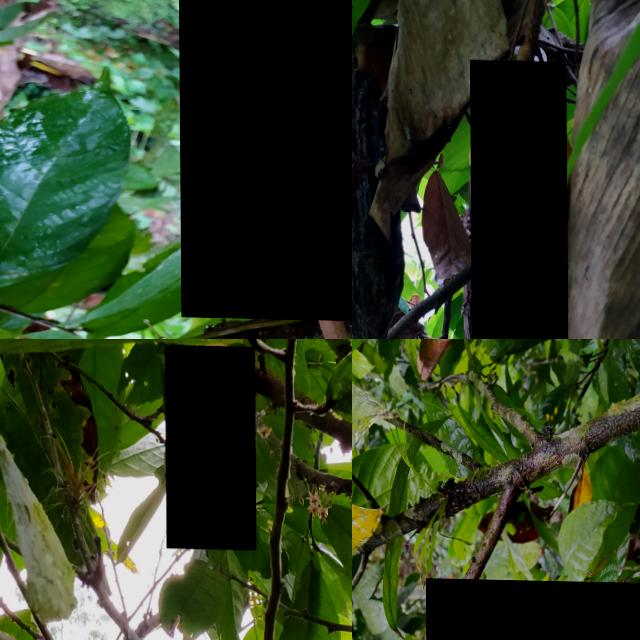Fitoftora: (178, 0, 352, 320), (469, 58, 567, 339), (165, 344, 256, 548), (352, 63, 404, 339)
Monilia: (425, 577, 640, 640)
